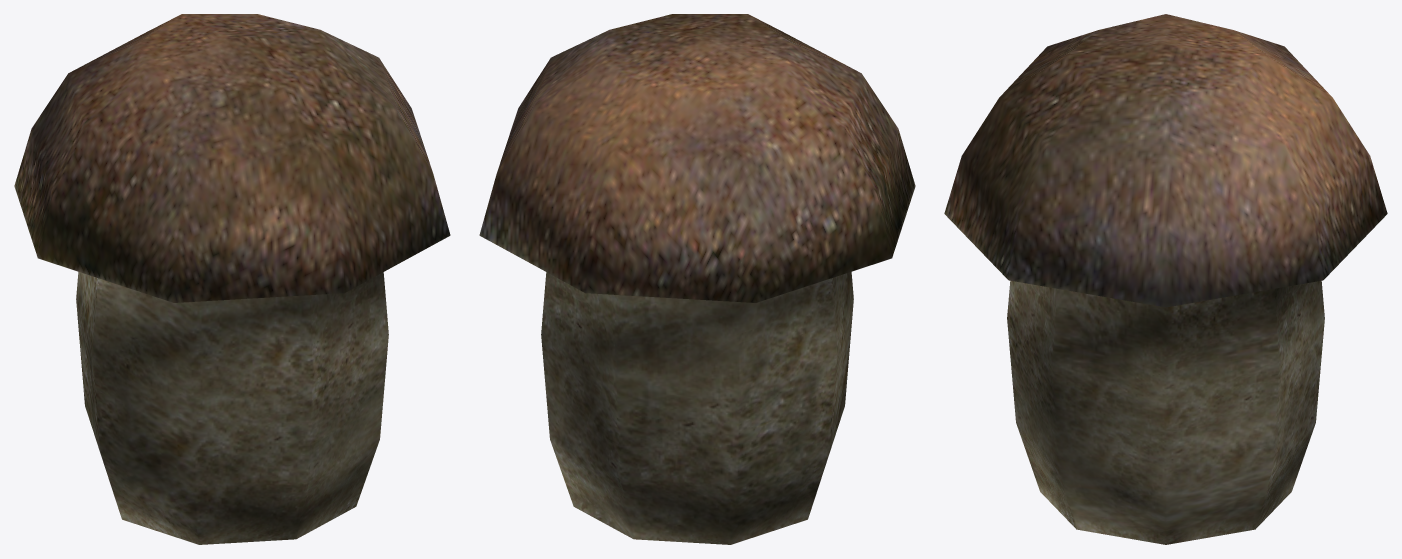
The model's file is BrownMushroom.fbx.
3 renders of one model, left to right at view 1: azimuth 30°, elevation 25°; view 2: azimuth 150°, elevation 25°; view 3: azimuth 270°, elevation 25°, orthographic.
Visible parts, largest first — view 1: BrownMushroom; view 2: BrownMushroom; view 3: BrownMushroom.
Part boxes in pixels (x1,y1,x2,y2): BrownMushroom: (14, 14, 450, 544); BrownMushroom: (479, 14, 915, 544); BrownMushroom: (944, 14, 1387, 544).
Size of the model in its own units: 0.2565 by 0.2851 by 0.2565.
